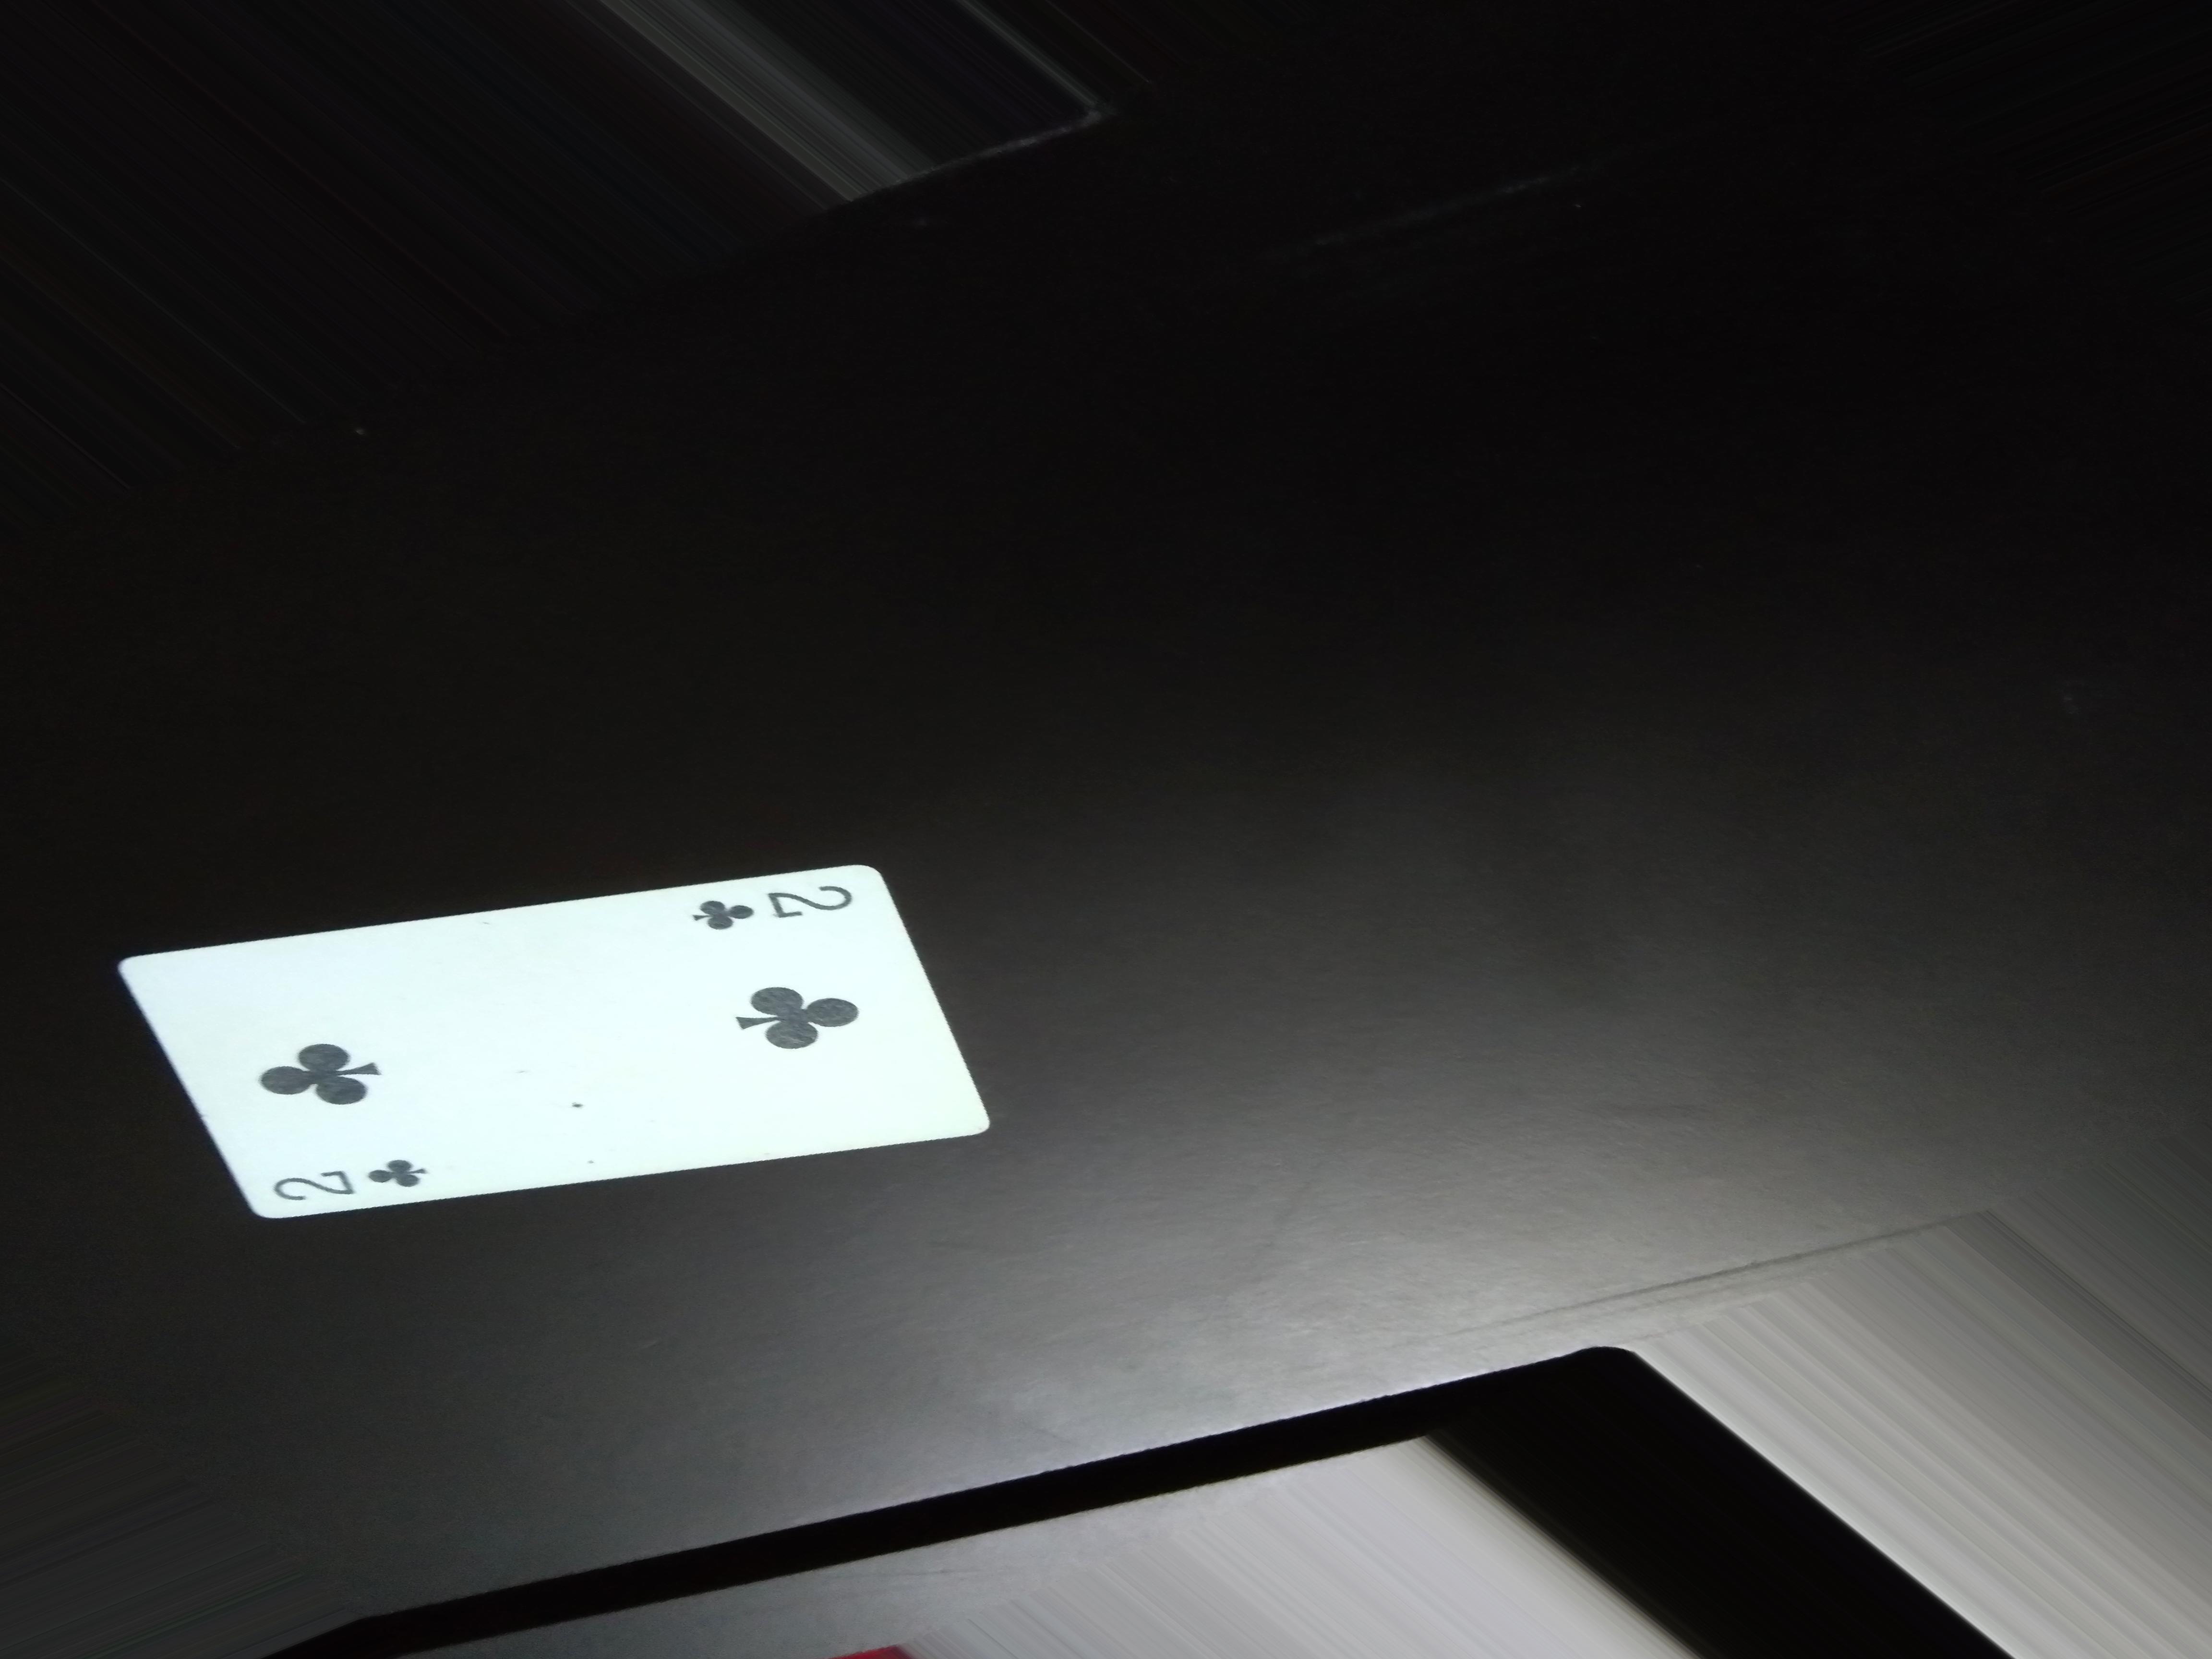2C: (681, 868, 855, 948)
